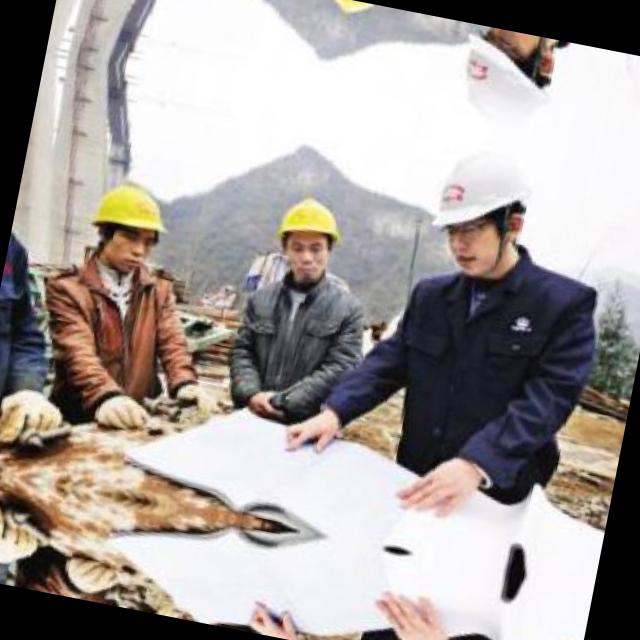helmet: (412, 128, 554, 286), (438, 21, 576, 150), (76, 164, 180, 286), (262, 188, 346, 290), (314, 0, 385, 25)
